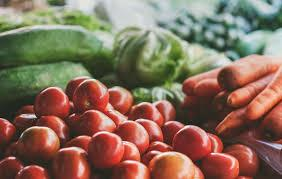Organic: (3, 2, 282, 179)
